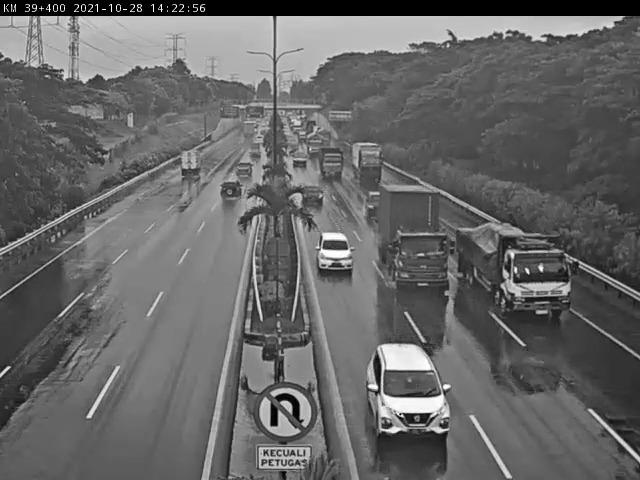truck-l-: (352, 139, 383, 179)
truck-m-: (319, 148, 343, 177)
truck-s-: (177, 148, 203, 178)
truck-xl-: (458, 223, 570, 321), (382, 185, 452, 295)
